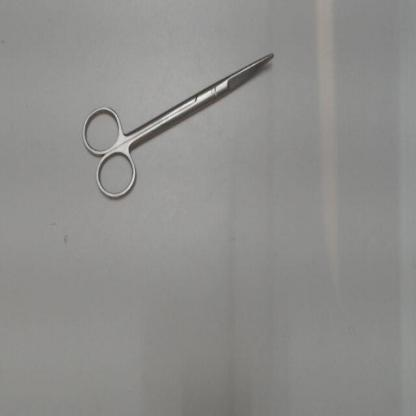Curved Mayo Scissors: (75, 50, 279, 212)
